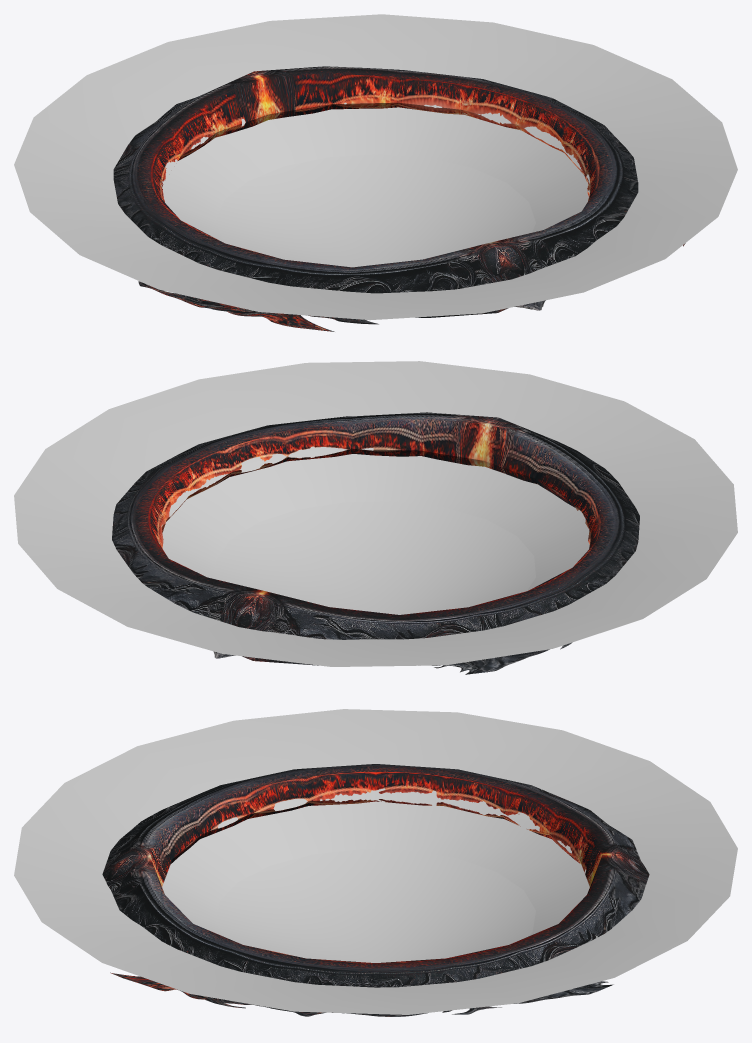
File: SelectionRing.fbx
The picture shows the model from 3 angles, top to bottom: view 1: azimuth 30°, elevation 25°; view 2: azimuth 150°, elevation 25°; view 3: azimuth 270°, elevation 25°; orthographic projection.
Visible parts, largest first — view 1: Smoke_Low, Ring_Low; view 2: Smoke_Low, Ring_Low; view 3: Smoke_Low, Ring_Low.
Boxes of the visible parts, x1,y1,x2,y2 form: Smoke_Low: [14, 14, 737, 320]; Ring_Low: [113, 66, 685, 331]; Smoke_Low: [14, 361, 737, 666]; Ring_Low: [112, 412, 639, 674]; Smoke_Low: [14, 709, 737, 1014]; Ring_Low: [102, 764, 649, 1016].
Bounding box in the file's own units: 78.6 × 13.74 × 78.6.
